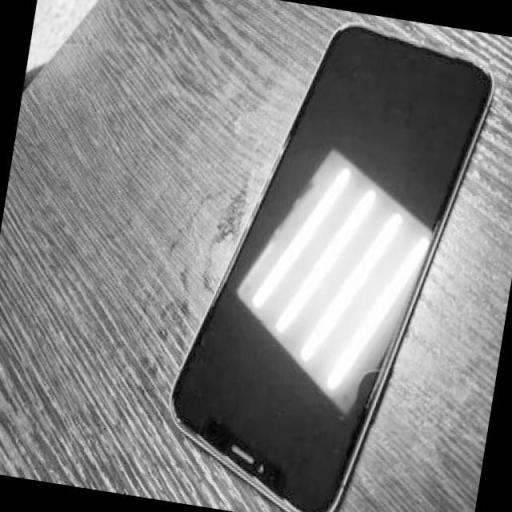phone: (165, 27, 496, 512)
